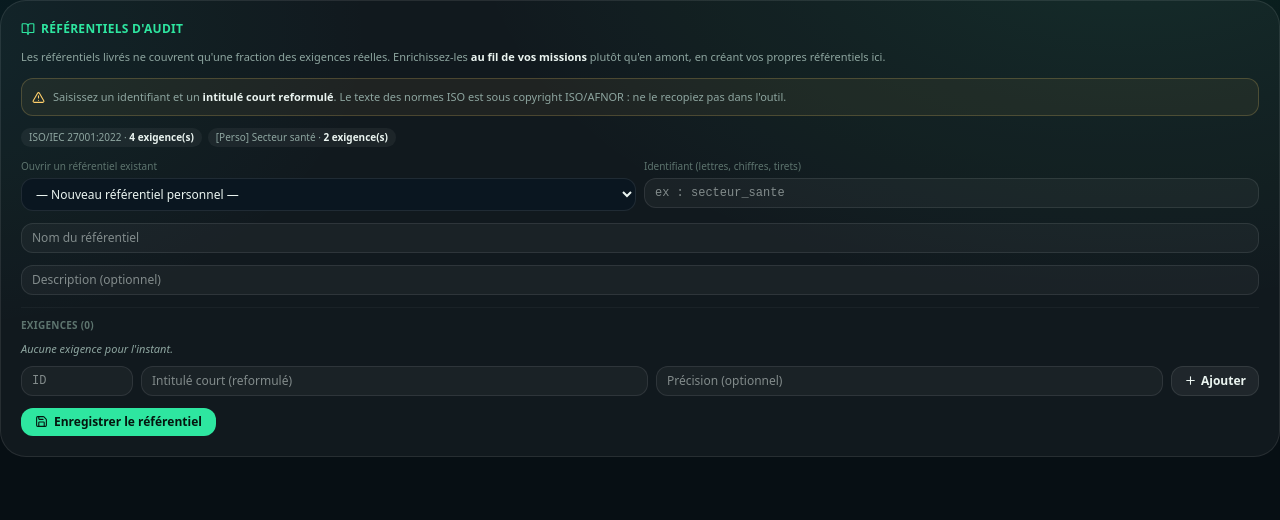
Test: ReferentielsPanel › avertit qu'un référentiel livré n'est pas modifiable sous son identifiant
The width and height of the screenshot is (1280, 520).
Select "ISO/IEC 27001:2022" in the dropdown named "Référentiel à ouvrir" at (328, 194), box [21, 178, 636, 211]
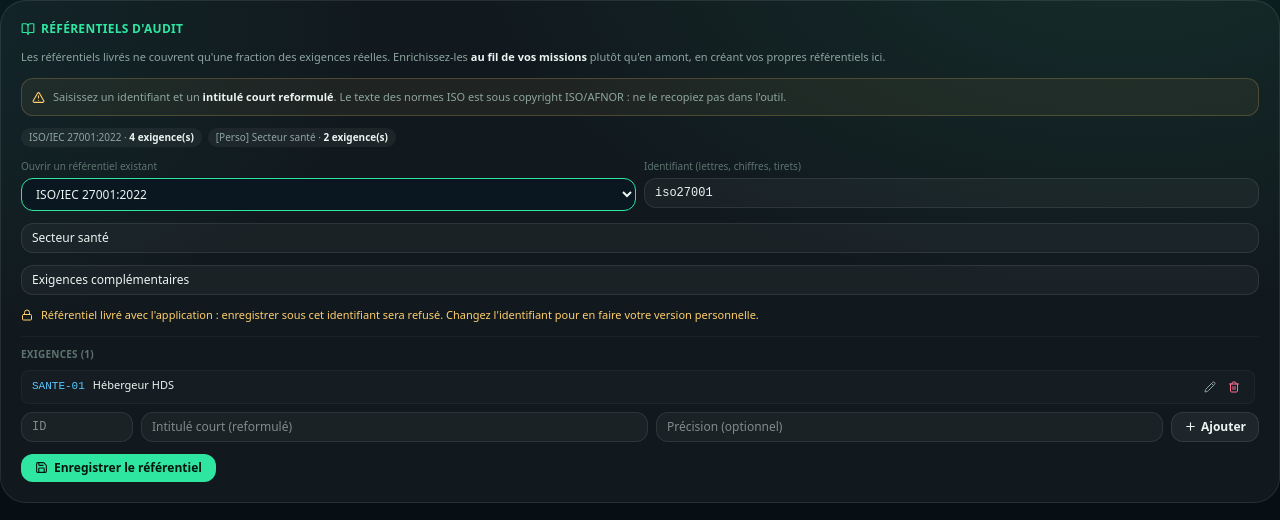
Result: the text "livré avec l'application" is shown at [41, 307, 759, 322]
